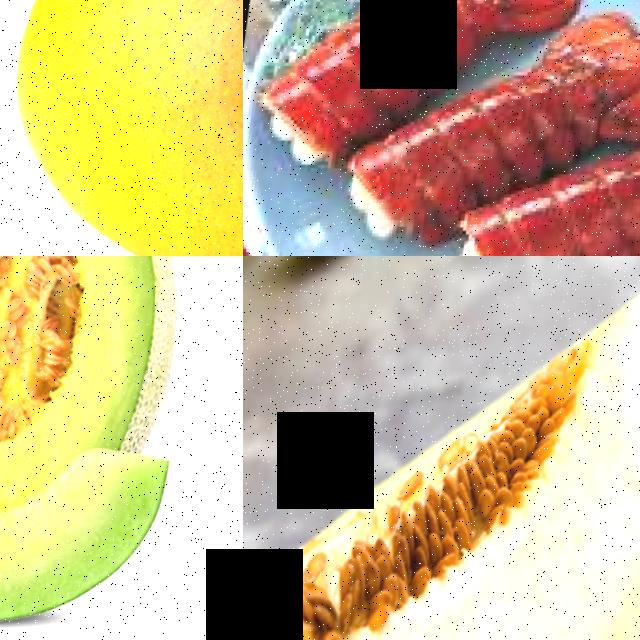lobster tails: (443, 7, 640, 198), (340, 0, 593, 105), (554, 104, 640, 256)
mango: (0, 0, 243, 256)
melon: (243, 256, 640, 640), (0, 256, 210, 484), (0, 414, 188, 640)
